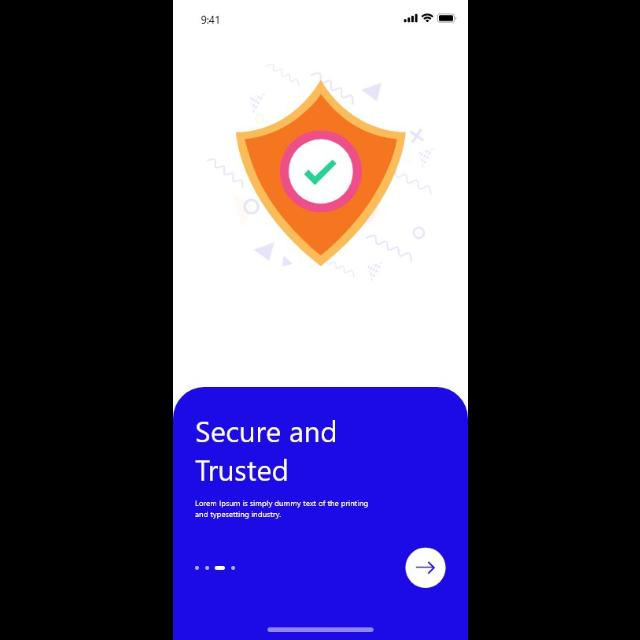icon: (404, 548, 446, 588)
image: (206, 64, 432, 282)
pageindicator: (194, 565, 236, 571)
text: (194, 420, 336, 482), (194, 500, 368, 520)
uppertaskbar: (200, 13, 456, 24)
